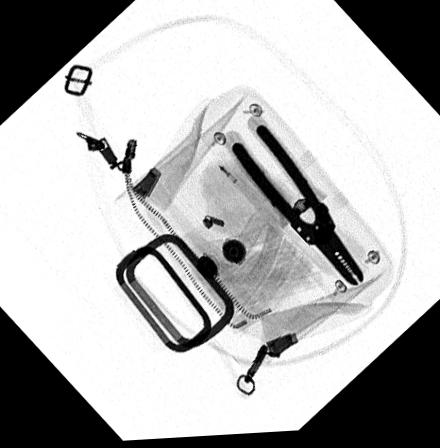Pliers: (230, 126, 366, 291)
